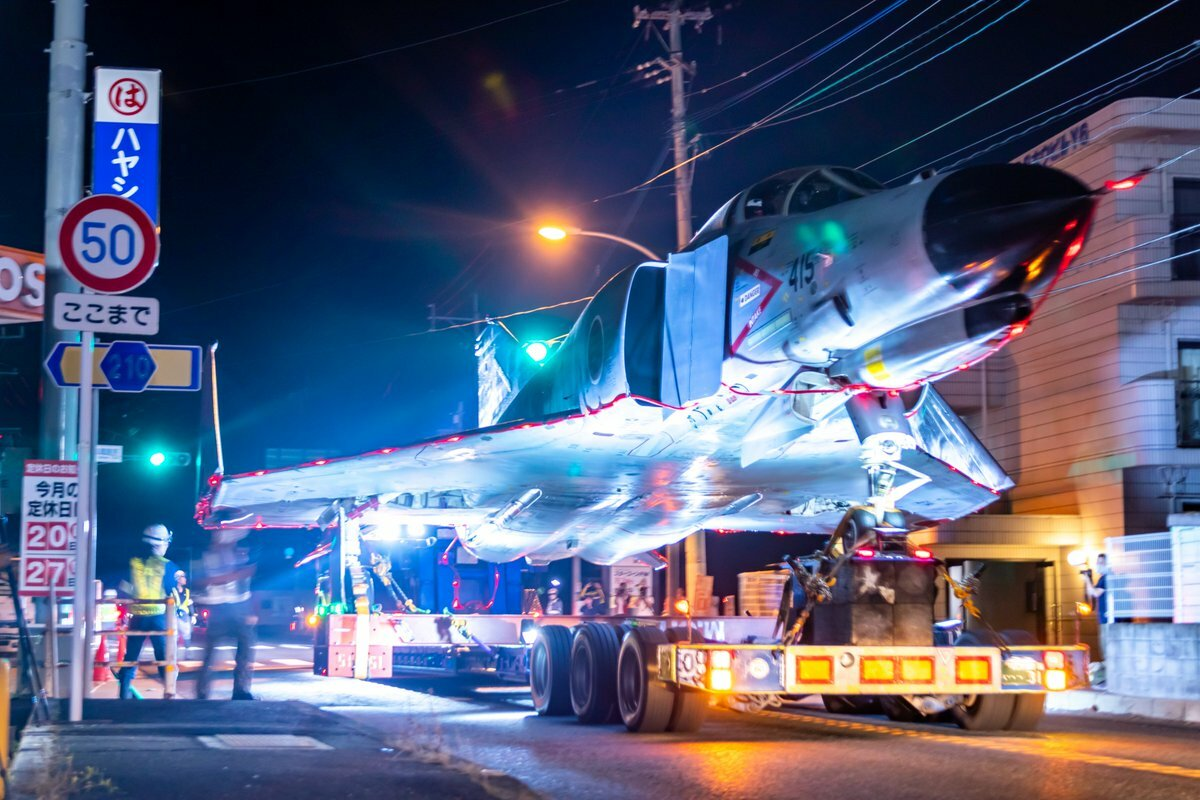F4: (193, 163, 1157, 614)
